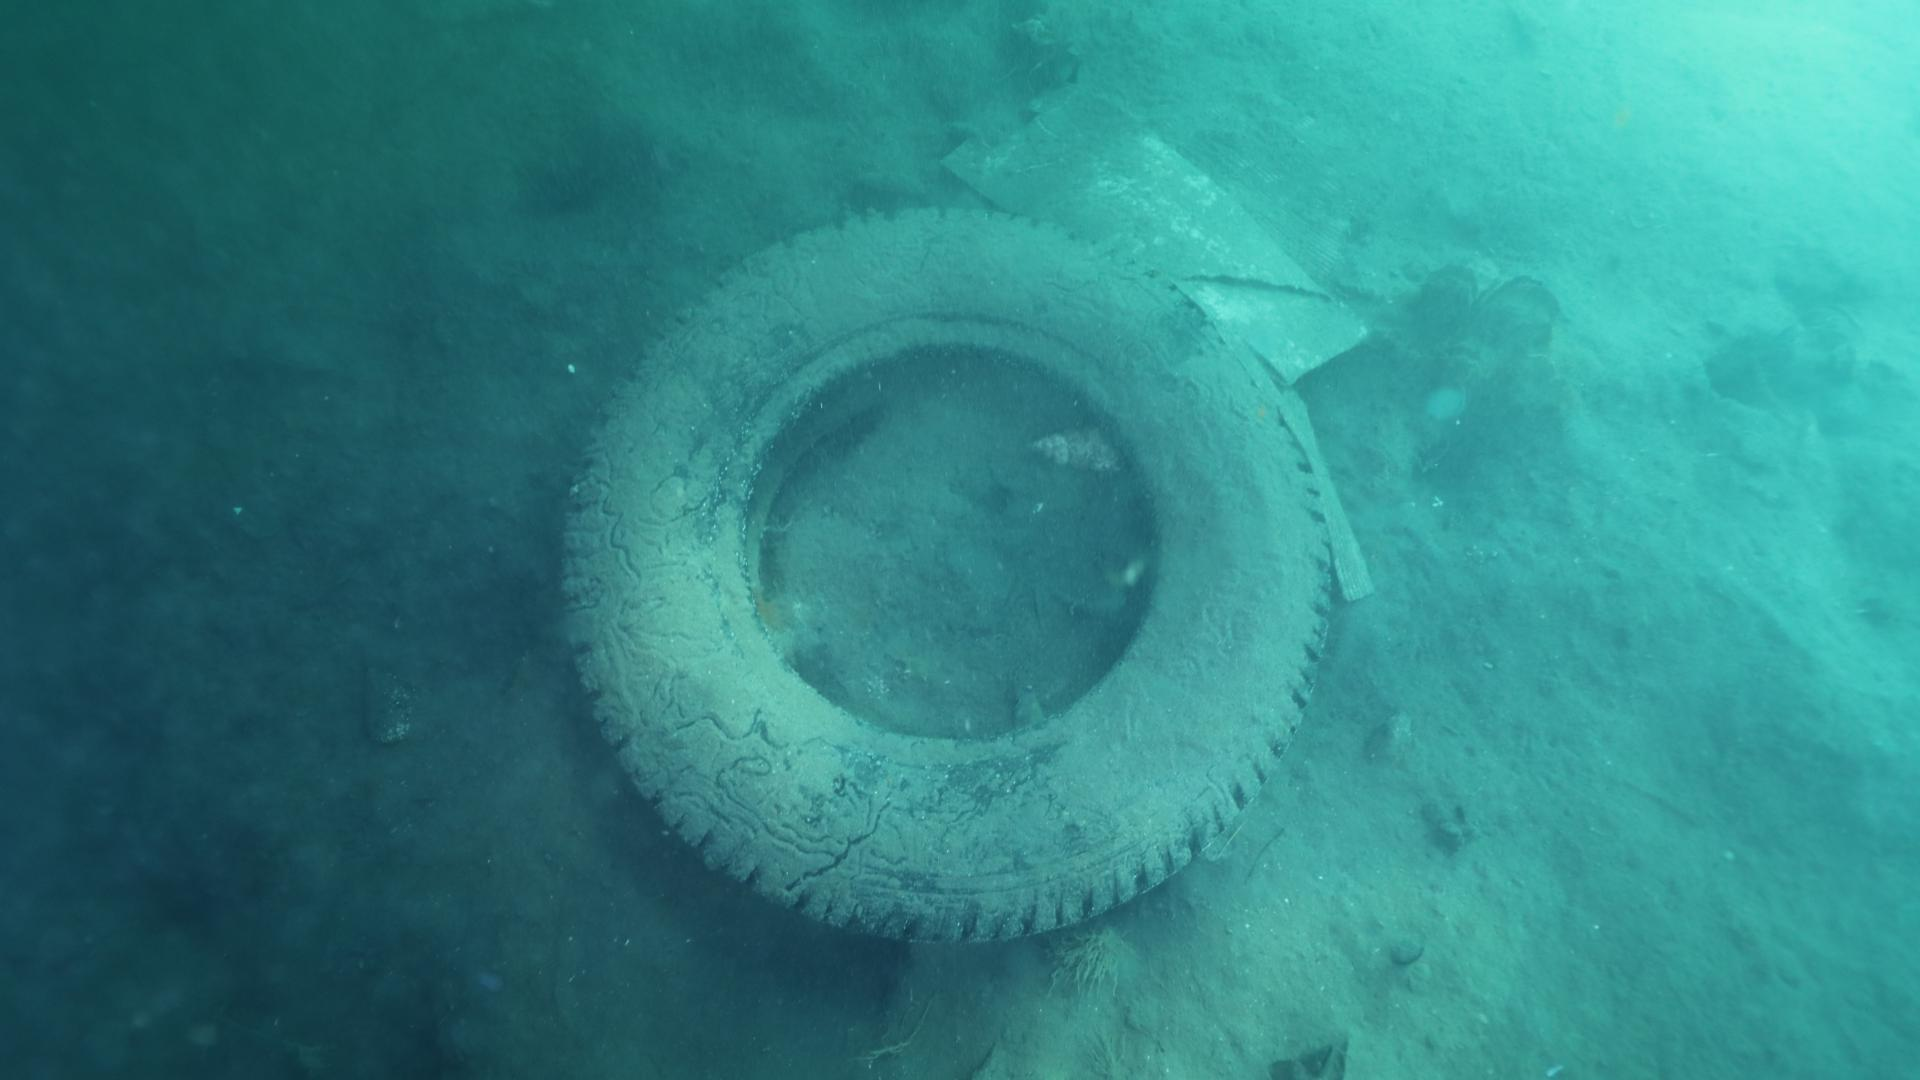tire: (555, 200, 1331, 947)
